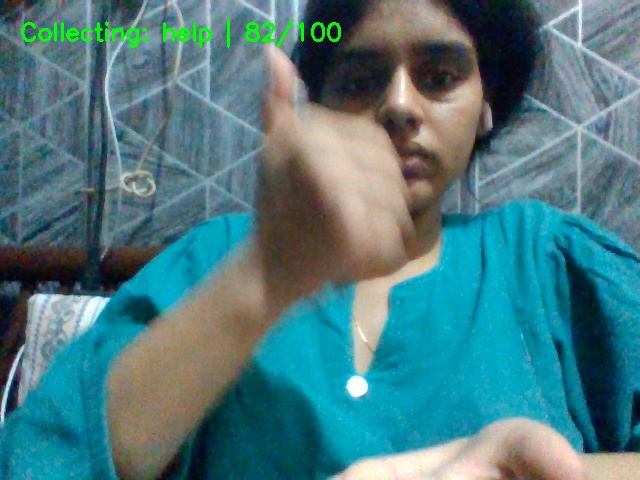help: (221, 34, 582, 477)
